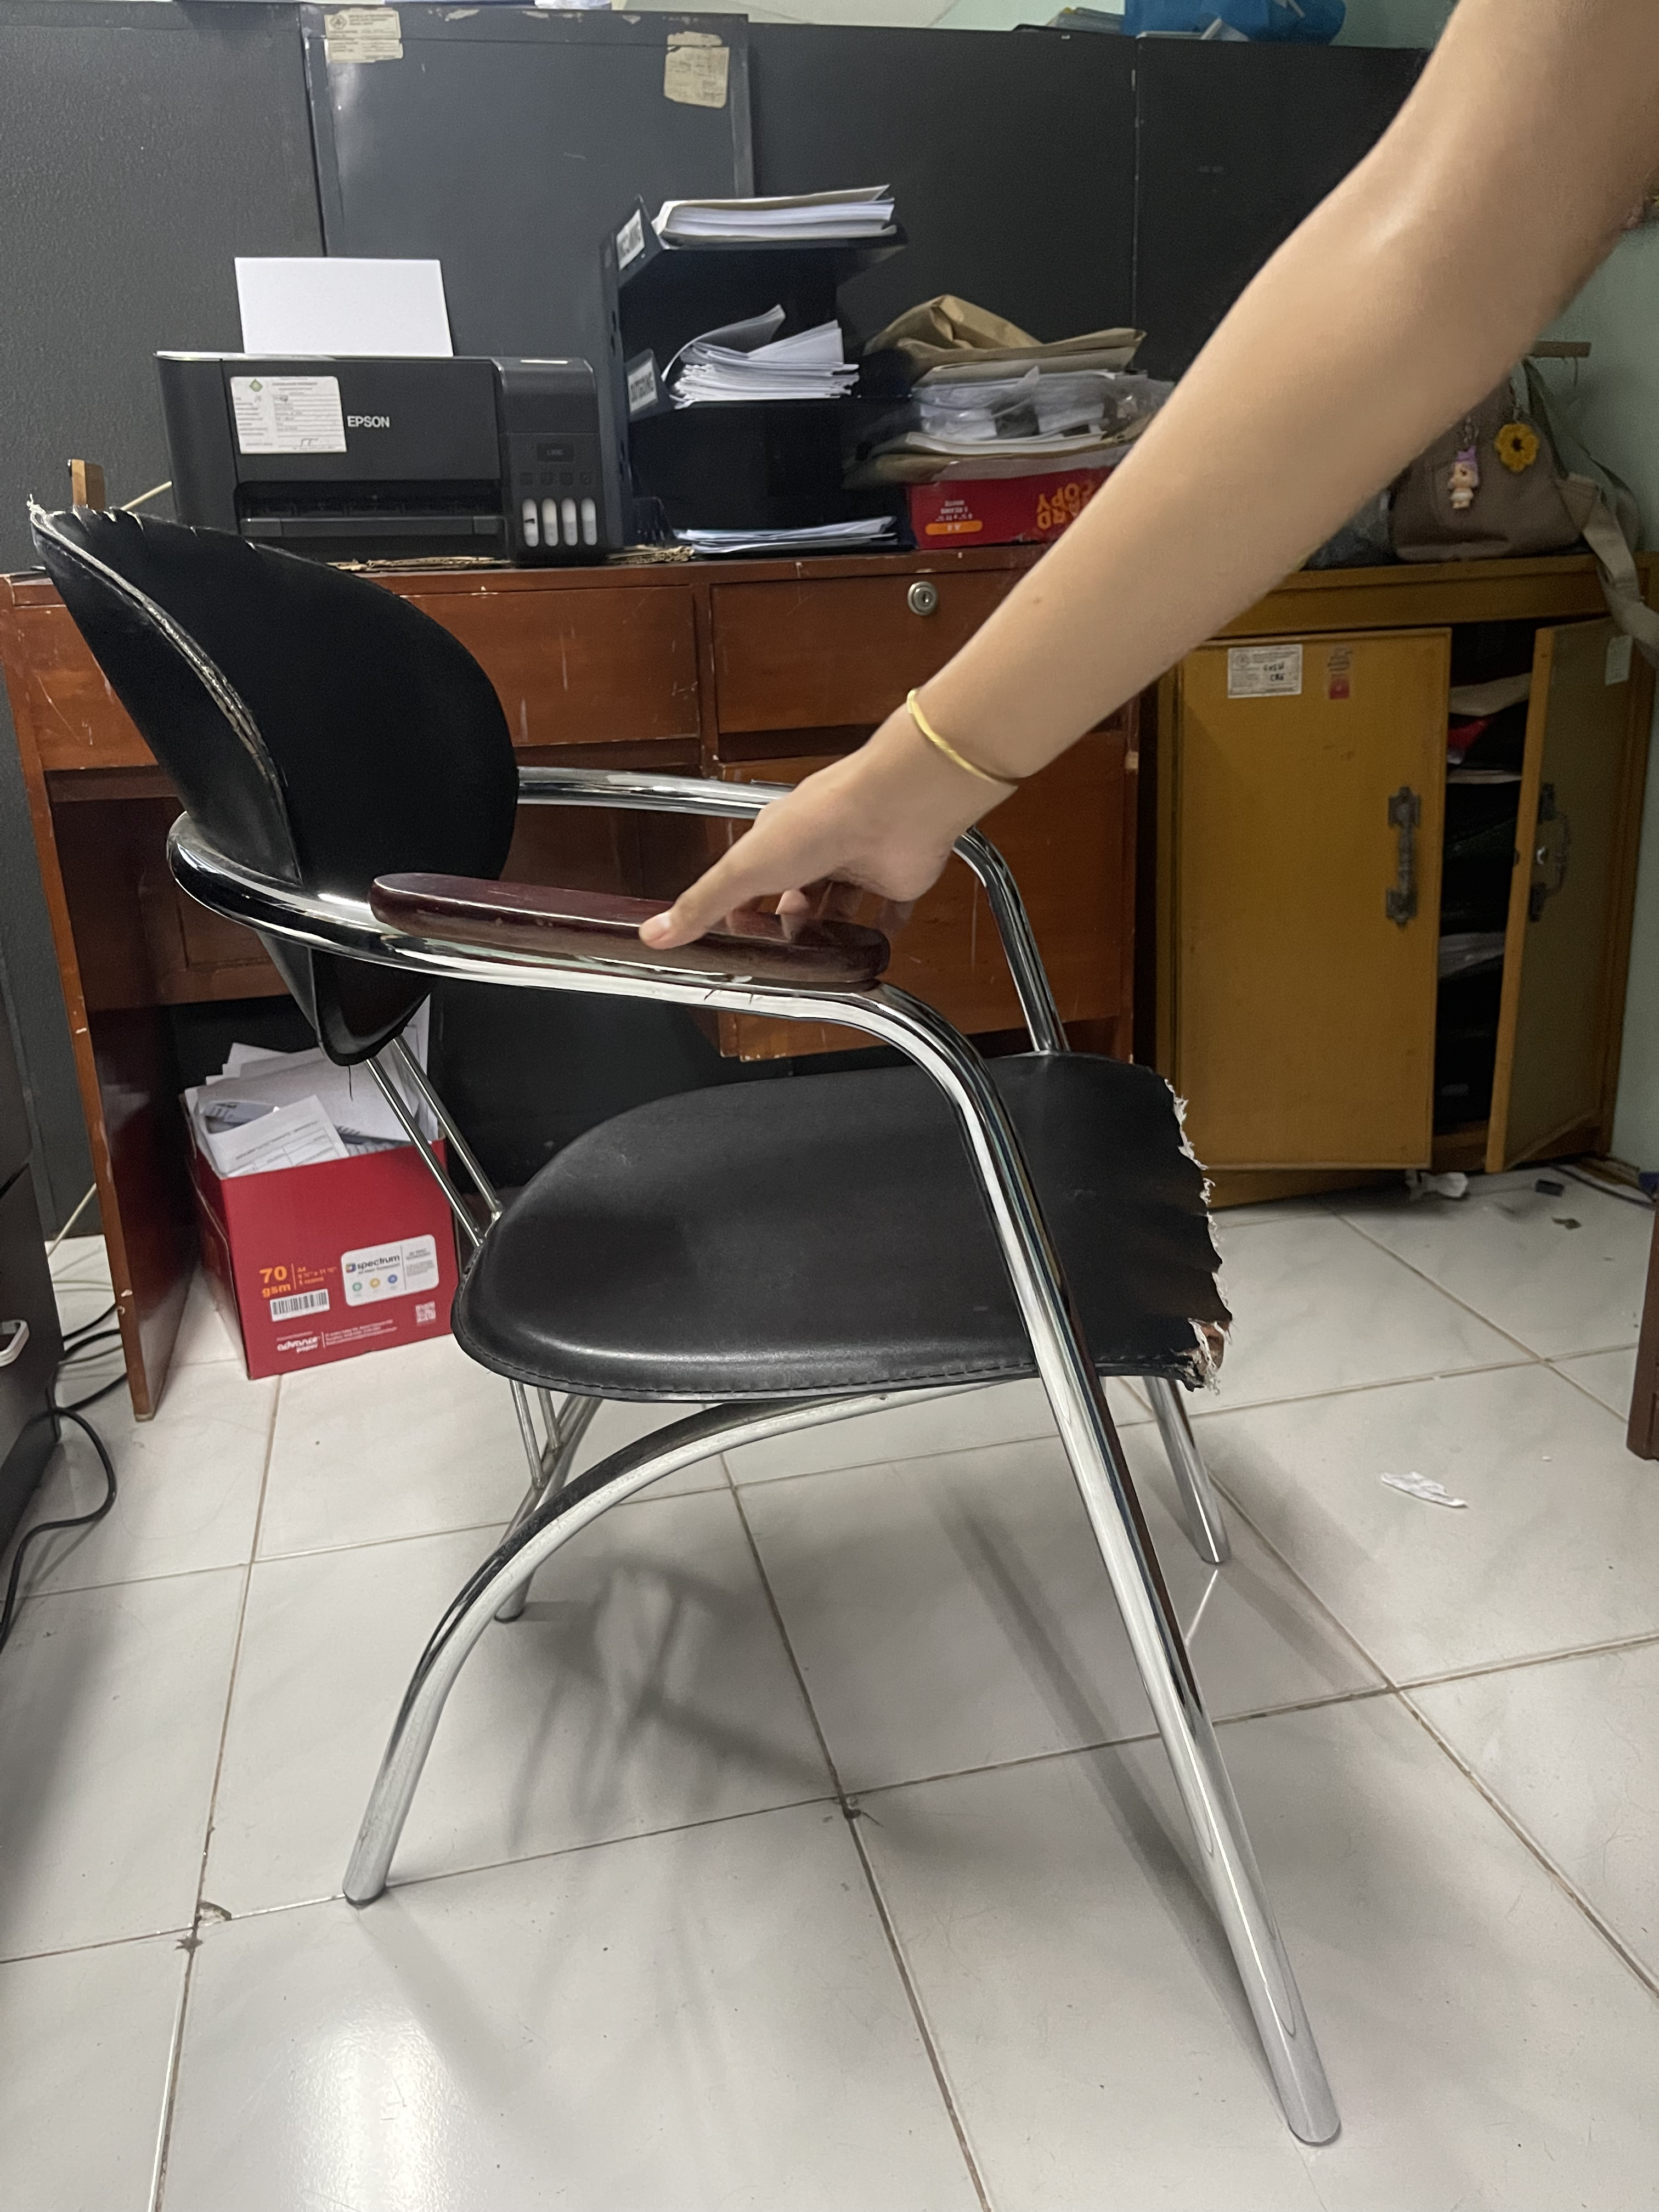chair1: (24, 491, 1361, 2153)
